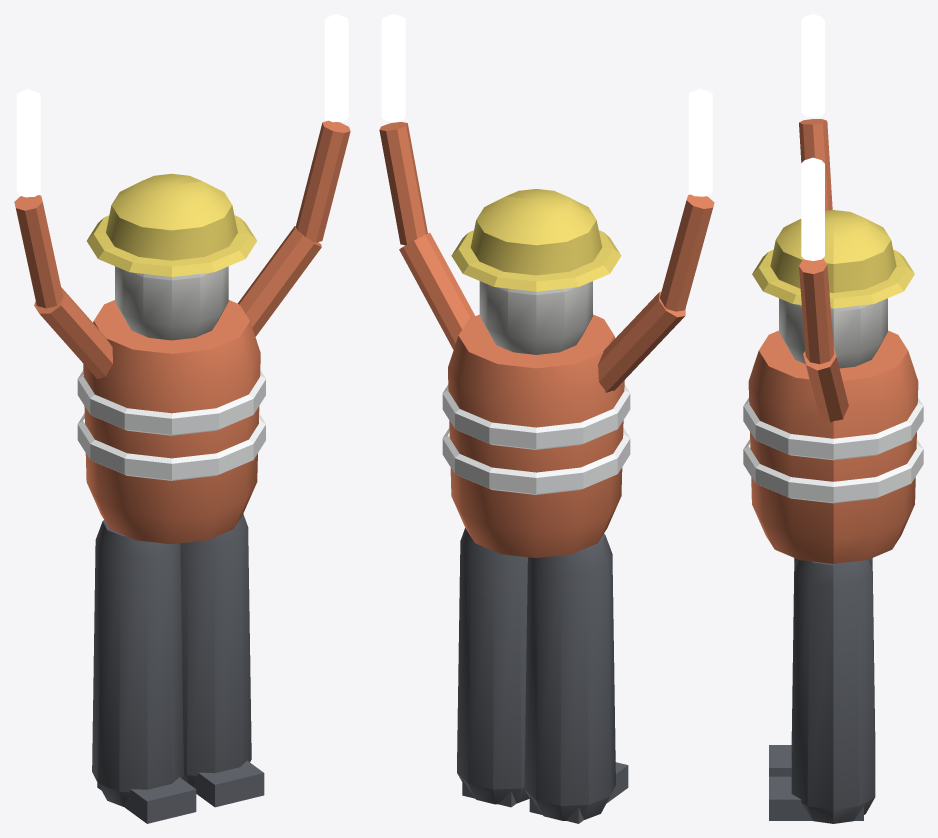
The picture shows the model from 3 angles, left to right: view 1: azimuth 30°, elevation 25°; view 2: azimuth 150°, elevation 25°; view 3: azimuth 270°, elevation 25°; orthographic projection. The views are drawn at different scales.
Parts seen in each view (by area): view 1: ground-crew-marshaller; view 2: ground-crew-marshaller; view 3: ground-crew-marshaller.
Boxes of the visible parts, <box> form: ground-crew-marshaller: <box>14,14,350,823</box>; ground-crew-marshaller: <box>379,14,714,823</box>; ground-crew-marshaller: <box>743,14,923,823</box>.
Bounding box in the file's own units: 1.08 × 2.3 × 0.53.
